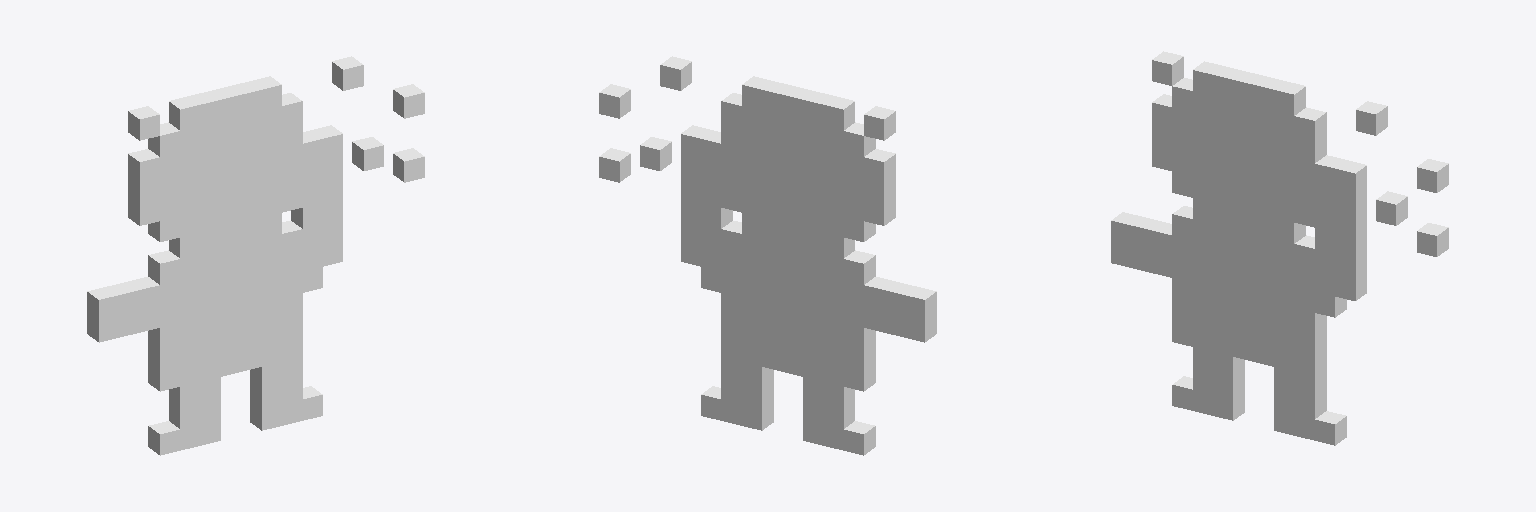
The model's file is Win3.obj.
3 renders of one model, left to right at view 1: azimuth 30°, elevation 25°; view 2: azimuth 150°, elevation 25°; view 3: azimuth 330°, elevation 25°, orthographic.
Parts seen in each view (by area): view 1: object 1; view 2: object 1; view 3: object 1.
Boxes of the visible parts, box(x1,y1,x2,y2) form: object 1: box(87, 56, 424, 455); object 1: box(599, 56, 936, 455); object 1: box(1111, 51, 1448, 445).
Bounding box in the file's own units: 1.6 × 1.6 × 0.1.